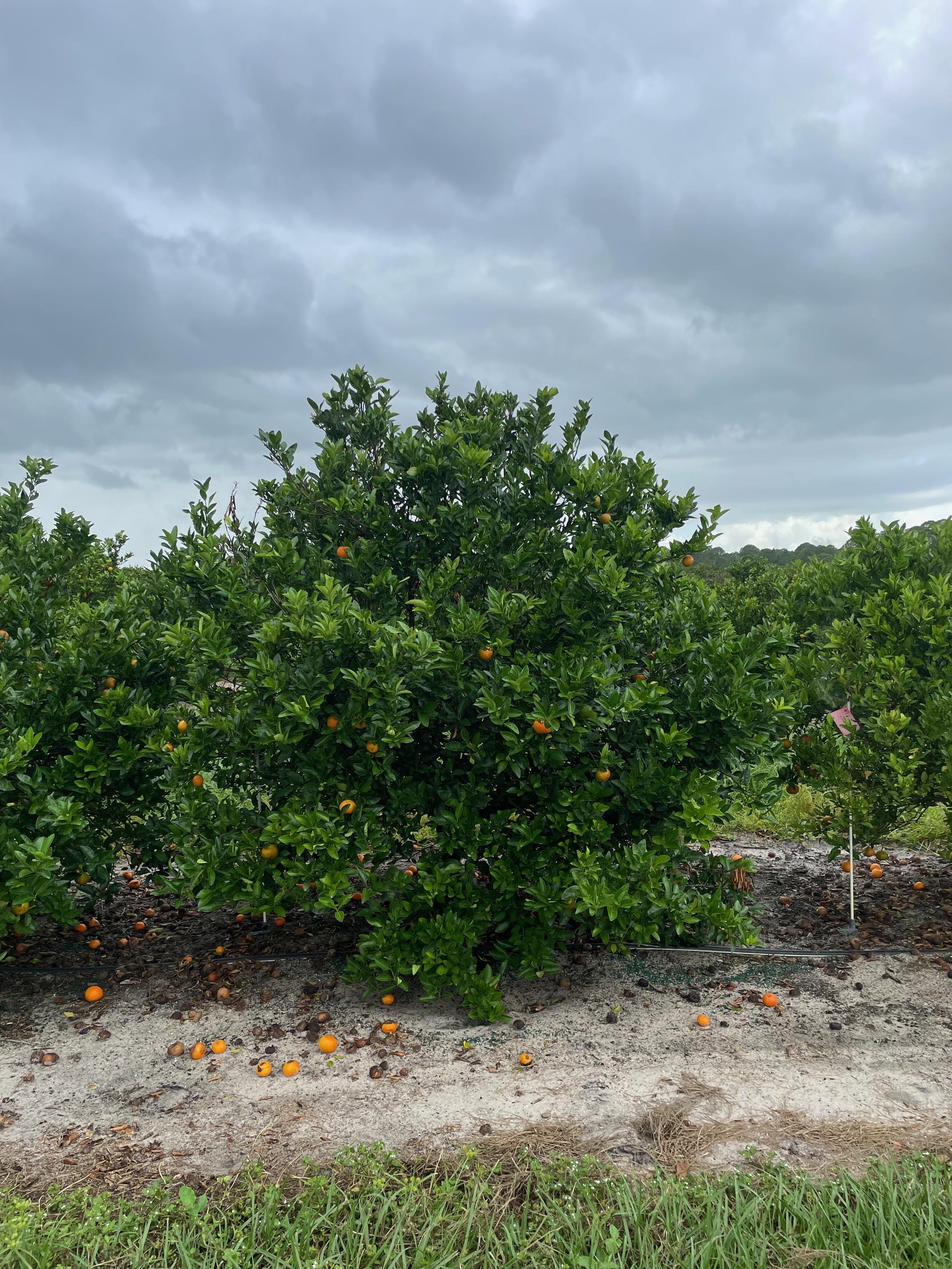fruit_on_ground: (530, 716, 554, 736), (324, 712, 346, 733), (259, 841, 280, 862), (9, 898, 31, 917), (349, 712, 371, 731), (475, 643, 497, 662), (337, 796, 357, 816), (574, 702, 595, 721), (335, 542, 354, 562), (593, 765, 613, 784), (364, 738, 383, 755), (630, 669, 648, 686), (189, 771, 206, 788), (74, 870, 91, 886), (103, 675, 119, 691), (175, 717, 191, 733), (797, 732, 814, 747), (597, 511, 614, 526), (840, 858, 856, 873), (874, 848, 890, 863), (587, 495, 604, 509), (785, 782, 800, 796), (861, 844, 876, 858), (681, 554, 696, 568), (821, 813, 835, 827), (779, 737, 793, 750), (162, 741, 175, 754), (0, 627, 10, 642), (107, 565, 114, 573)
fruit_on_tree: (83, 983, 104, 1002), (318, 1033, 338, 1052), (188, 1041, 207, 1060), (280, 1059, 300, 1077), (40, 1050, 60, 1067), (254, 1059, 272, 1077), (761, 990, 779, 1007), (210, 1037, 228, 1053), (168, 1040, 185, 1056), (381, 1019, 398, 1034), (269, 1024, 285, 1038), (315, 1009, 331, 1023), (380, 991, 396, 1005), (215, 986, 231, 1000), (518, 1052, 533, 1066), (369, 1065, 383, 1079), (14, 941, 28, 955), (557, 975, 572, 988), (696, 1013, 711, 1026), (870, 867, 884, 879), (512, 1017, 526, 1029), (729, 851, 743, 863), (295, 1019, 308, 1031), (354, 852, 367, 864), (129, 877, 142, 889), (816, 904, 829, 916), (779, 893, 792, 905), (170, 1010, 184, 1021), (207, 971, 221, 982), (406, 863, 418, 875), (88, 937, 100, 949), (912, 879, 925, 890), (88, 917, 101, 928), (74, 921, 86, 932), (144, 906, 156, 917), (273, 916, 286, 926), (133, 920, 146, 930), (403, 867, 414, 878), (121, 869, 133, 879), (270, 969, 281, 979), (214, 944, 225, 954), (117, 937, 128, 947), (870, 862, 882, 871), (766, 849, 777, 858), (160, 903, 171, 912), (234, 913, 245, 922)
